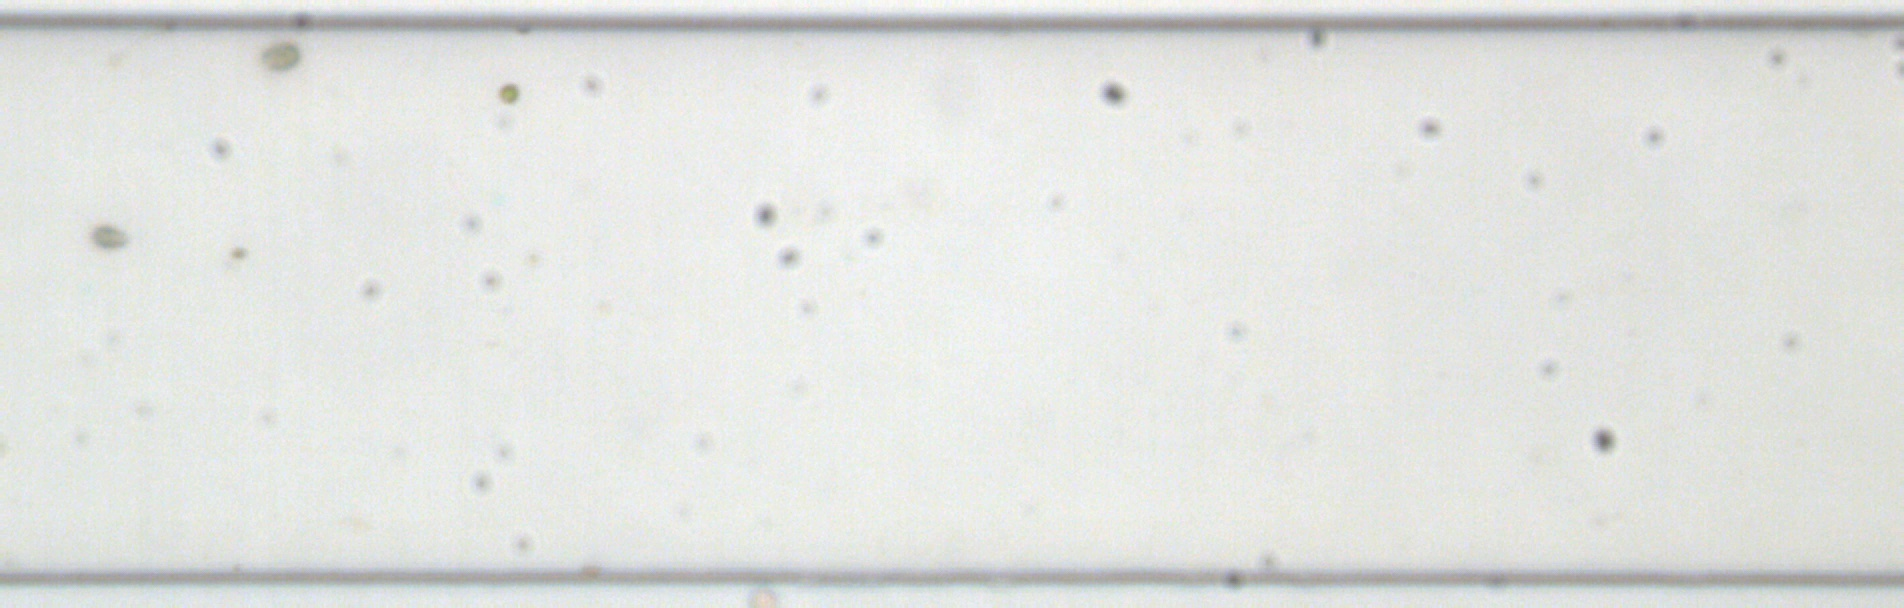Chlorella: (495, 79, 521, 108), (228, 245, 248, 262)
Dunaliella salina: (257, 39, 304, 73), (87, 222, 130, 252)
